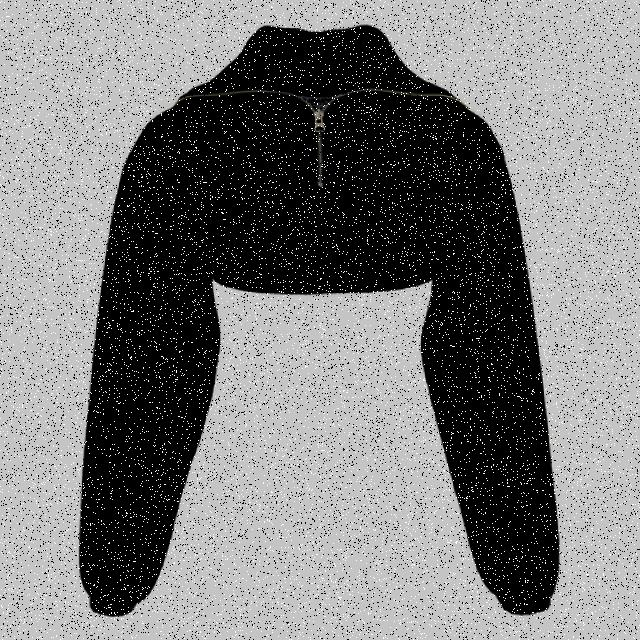Blouse_deep: (77, 24, 561, 628)
